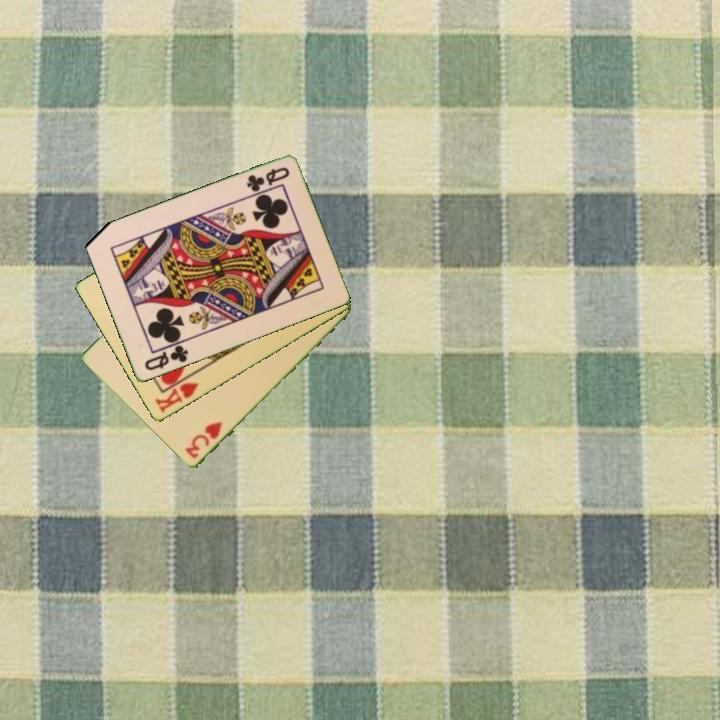3h: (181, 418, 225, 462)
Kh: (151, 370, 201, 416)
Qc: (141, 342, 191, 374), (242, 164, 292, 195)
